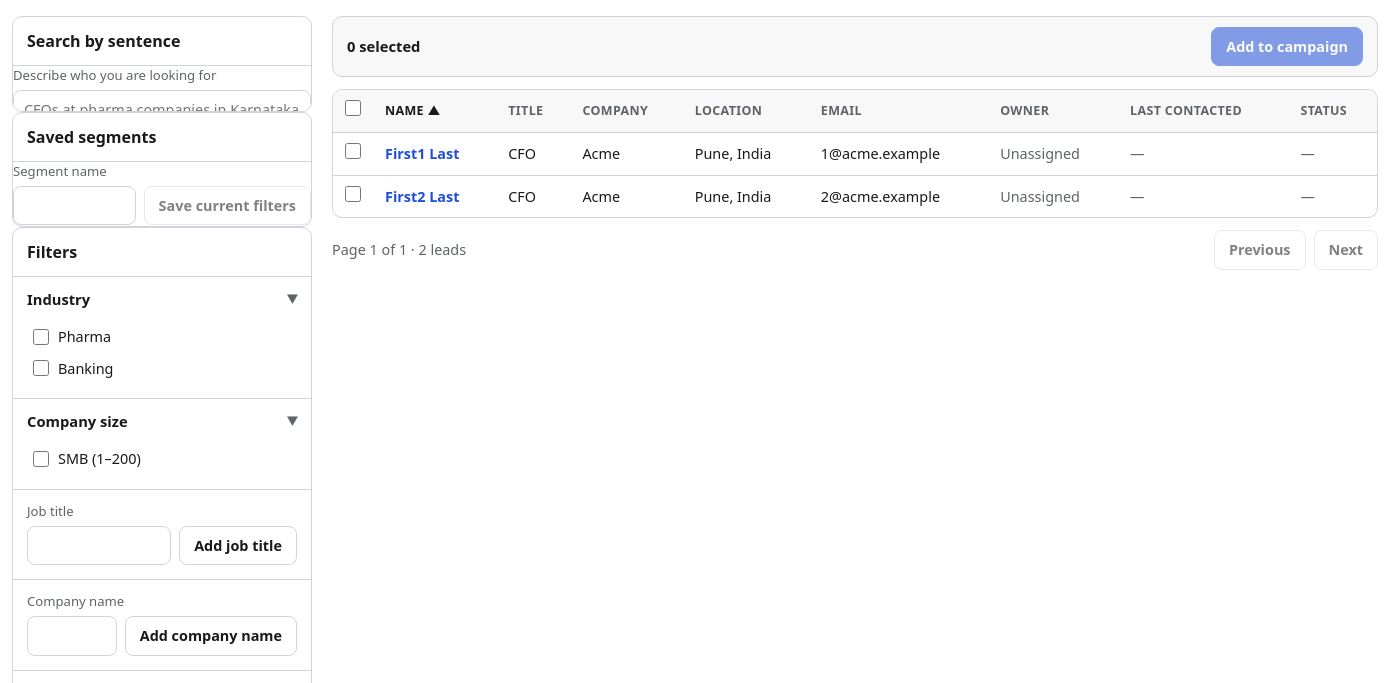
Test: SearchScreen › applying new filters clears the selection
Check: the link "First1 Last" is shown, box [385,144,459,163]
Click the checkbox named "Select First1 Last": x=353, y=151 [345,143,361,159]
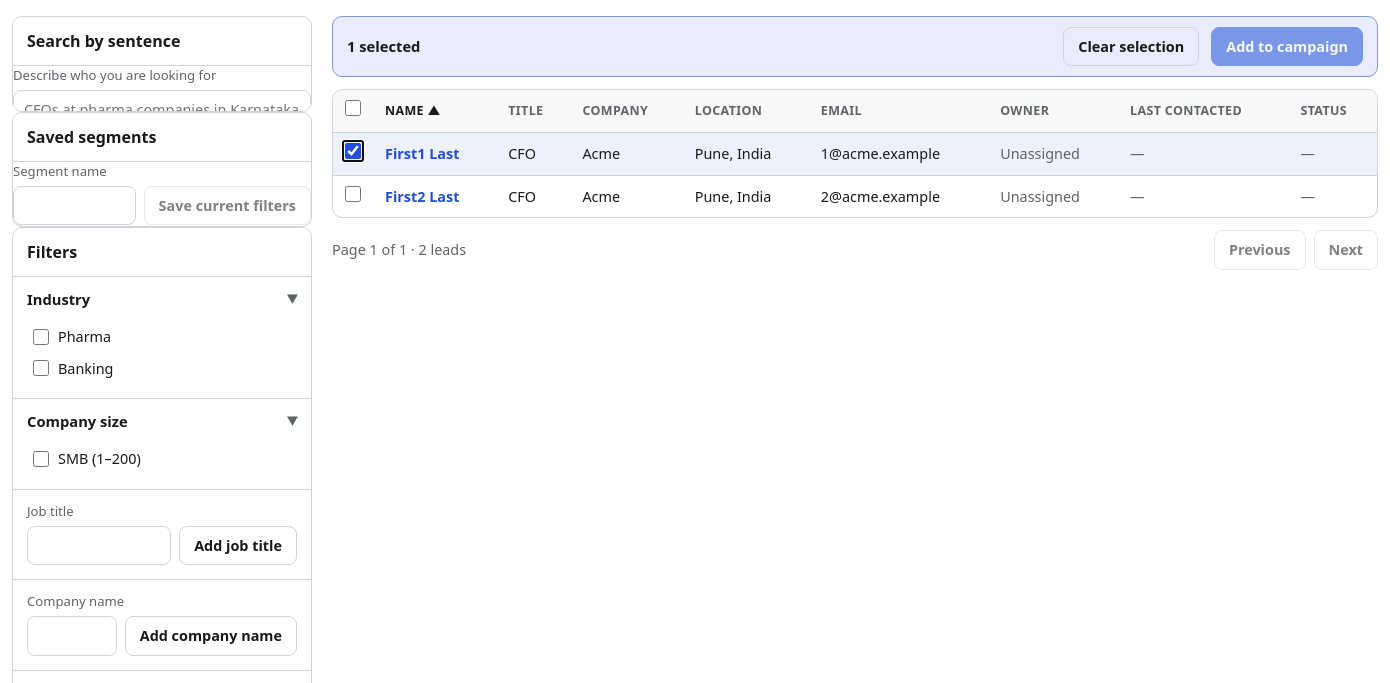
Check: the message shows "1 selected", box [332,16,1378,77]
Click the checkbox labelled "Pharma": x=41, y=337 [33,329,49,345]
(page scrolled)
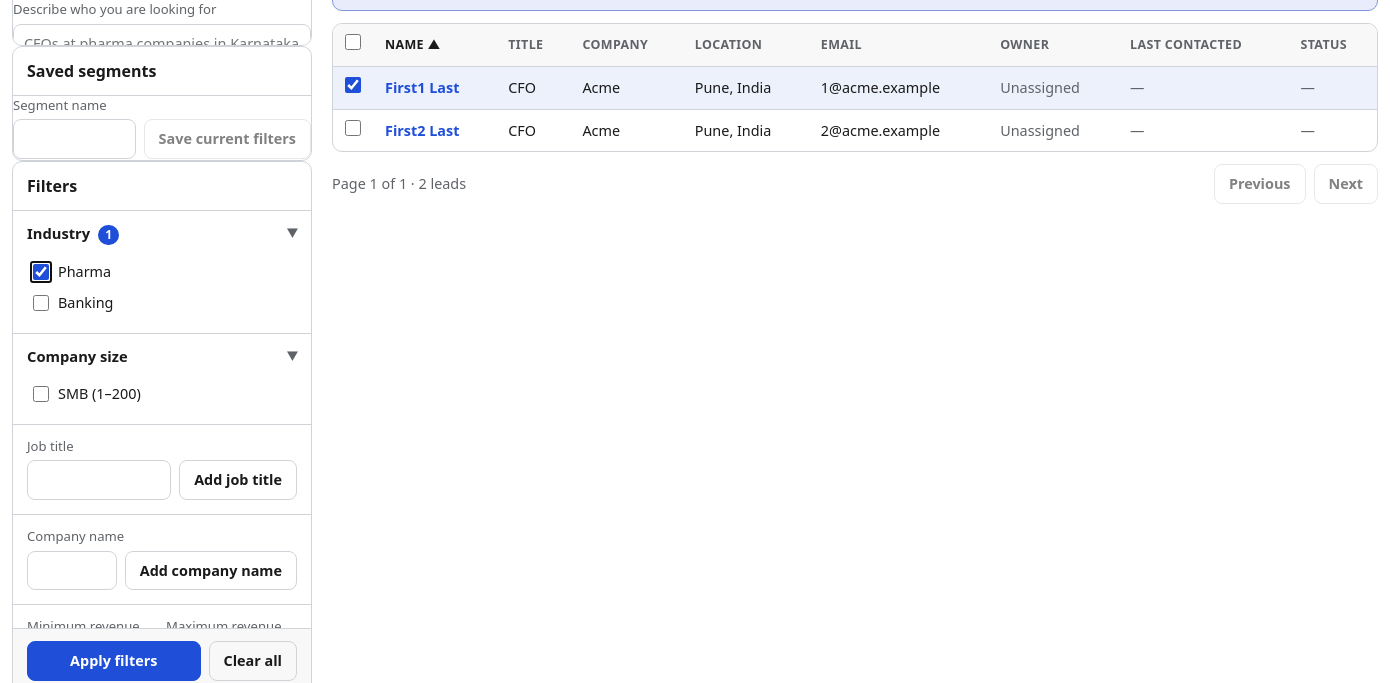
Click the button "Apply filters": x=114, y=661 [27,641,200,681]
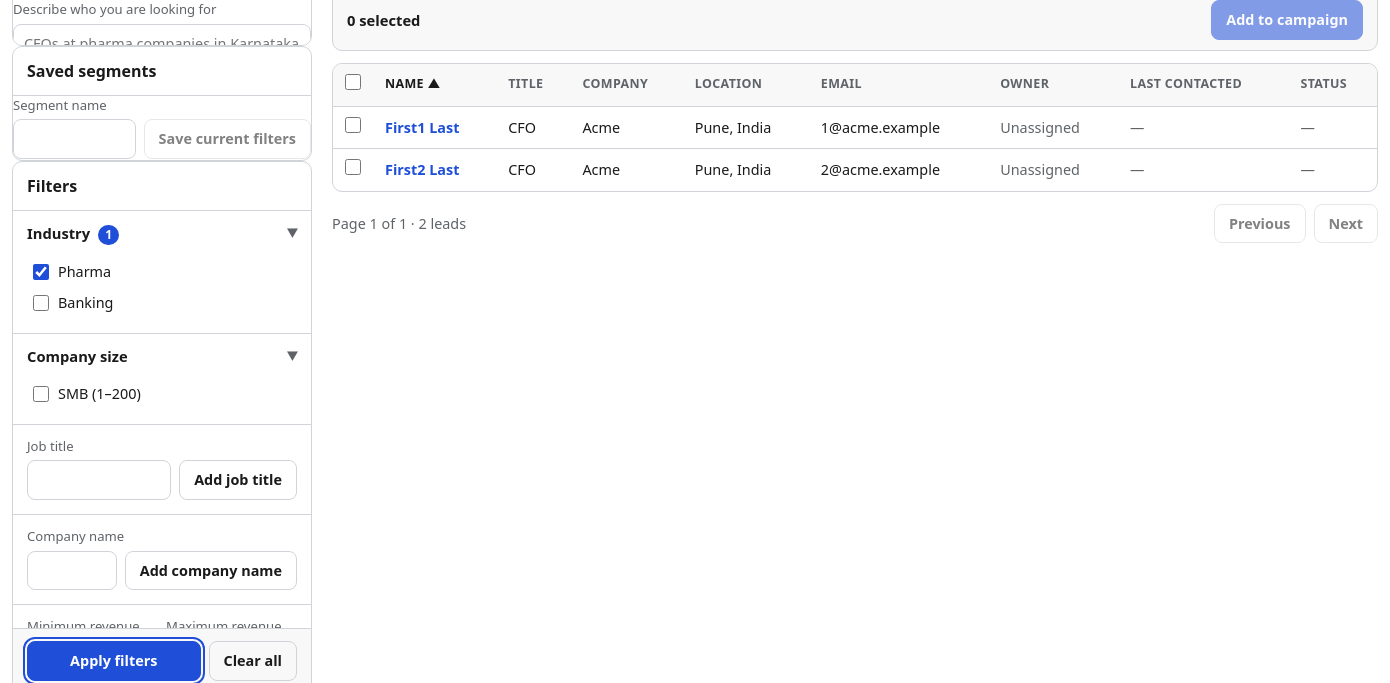
Check: the text "0 selected" is shown, box [347,10,420,30]
